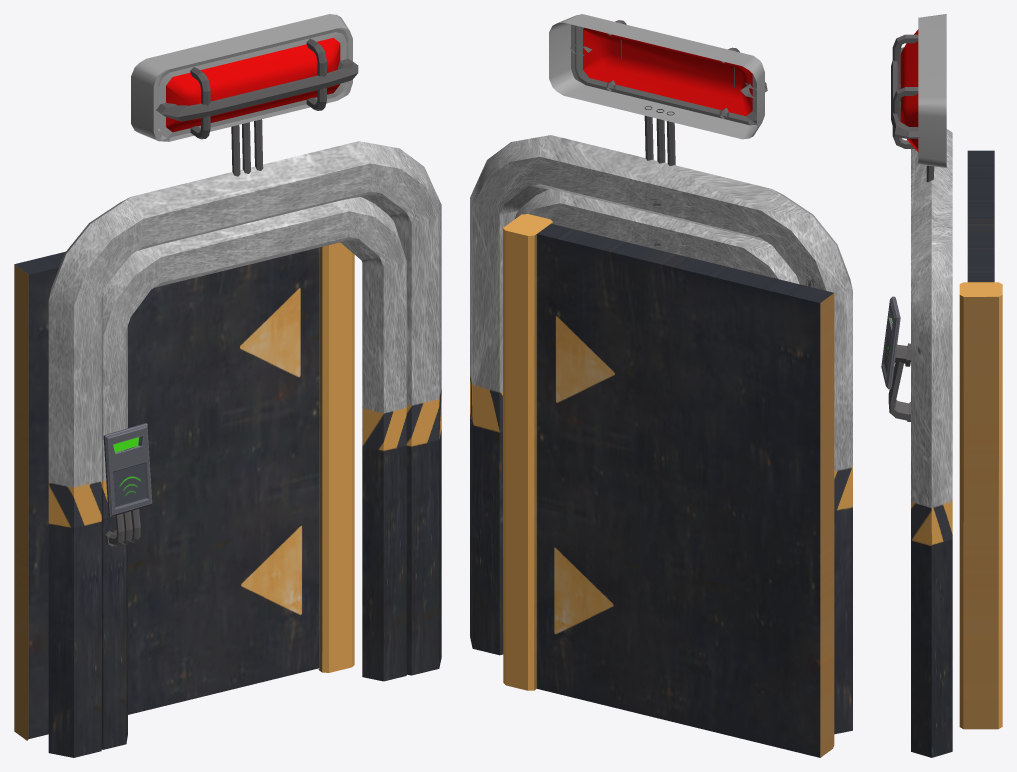
File: Deur 1.fbx
3 views of the same model, side by side, from view 1: azimuth 30°, elevation 25°; view 2: azimuth 150°, elevation 25°; view 3: azimuth 270°, elevation 25° (orthographic). The views are drawn at different scales.
Visible parts, largest first — view 1: Deur, Binnen_Rand1, Binnen_Rand2, Lamp_Base, Card_Scanner, Lamp5, Lamp4, Lamp2; view 2: Deur, Binnen_Rand1, Lamp_Base, Binnen_Rand2; view 3: Binnen_Rand1, Deur, Lamp_Base, Card_Scanner, Lamp5, Draad3, Lamp2, Lamp4, Card_Scanner_Houder.
Part boxes in pixels (x1,y1,x2,y2): Deur: (14,242,354,740); Binnen_Rand1: (48,141,441,757); Binnen_Rand2: (102,197,406,749); Lamp_Base: (131,14,352,141); Card_Scanner: (103,423,152,517); Lamp5: (156,59,358,121); Lamp4: (190,67,210,139); Lamp2: (306,38,326,110); Deur: (503,214,834,757); Binnen_Rand1: (470,135,852,734); Lamp_Base: (549,14,764,139); Binnen_Rand2: (515,189,799,284); Binnen_Rand1: (911,129,952,757); Deur: (959,150,1002,729); Lamp_Base: (900,14,946,167); Card_Scanner: (881,296,900,389); Lamp5: (891,47,919,138); Draad3: (888,360,910,421); Lamp2: (892,87,918,148); Lamp4: (892,34,918,89); Card_Scanner_Houder: (895,343,910,366).
Size of the model in its own units: 179 by 289 by 51.52.
Materials: 7 (3 with a texture image).
